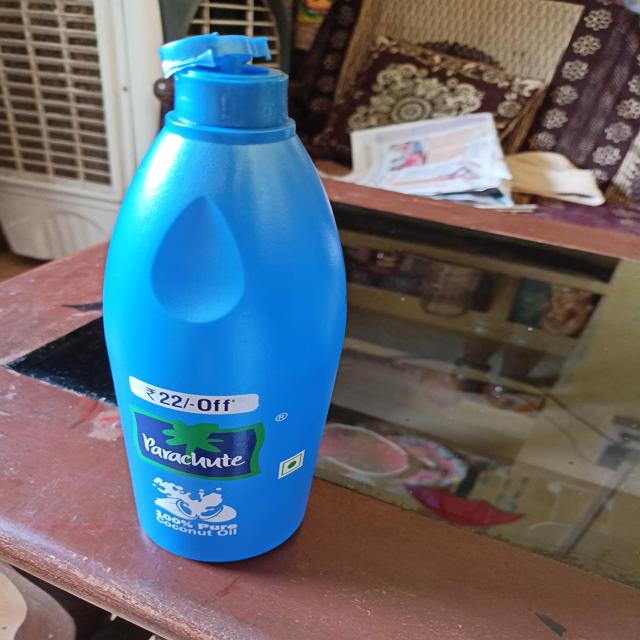parachute_oil: (89, 33, 348, 569)
